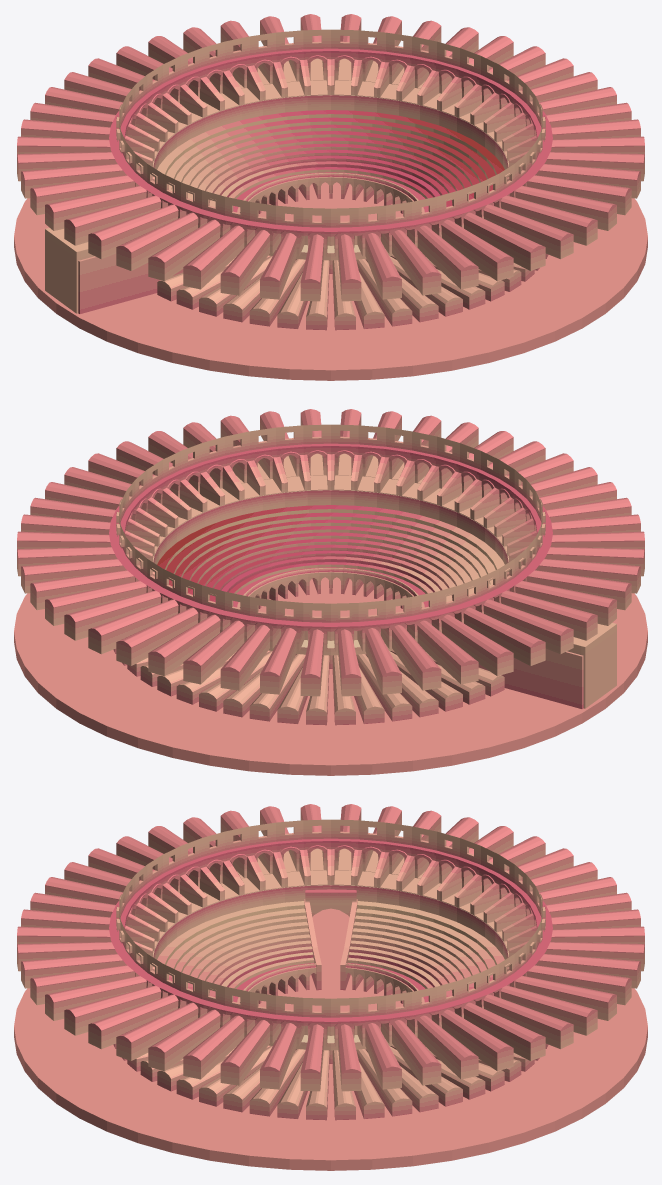
Rendered from Colosseum1.fbx.
3 renders of one model, top to bottom at view 1: azimuth 30°, elevation 25°; view 2: azimuth 150°, elevation 25°; view 3: azimuth 270°, elevation 25°, orthographic.
Visible parts, largest first — view 1: Cylinder.007; view 2: Cylinder.007; view 3: Cylinder.007.
Part boxes in pixels (<box>): Cylinder.007: <box>14,14,647,380</box>; Cylinder.007: <box>14,409,647,775</box>; Cylinder.007: <box>14,804,647,1170</box>.
Size of the model in its own units: 21652 by 4818 by 21652.
